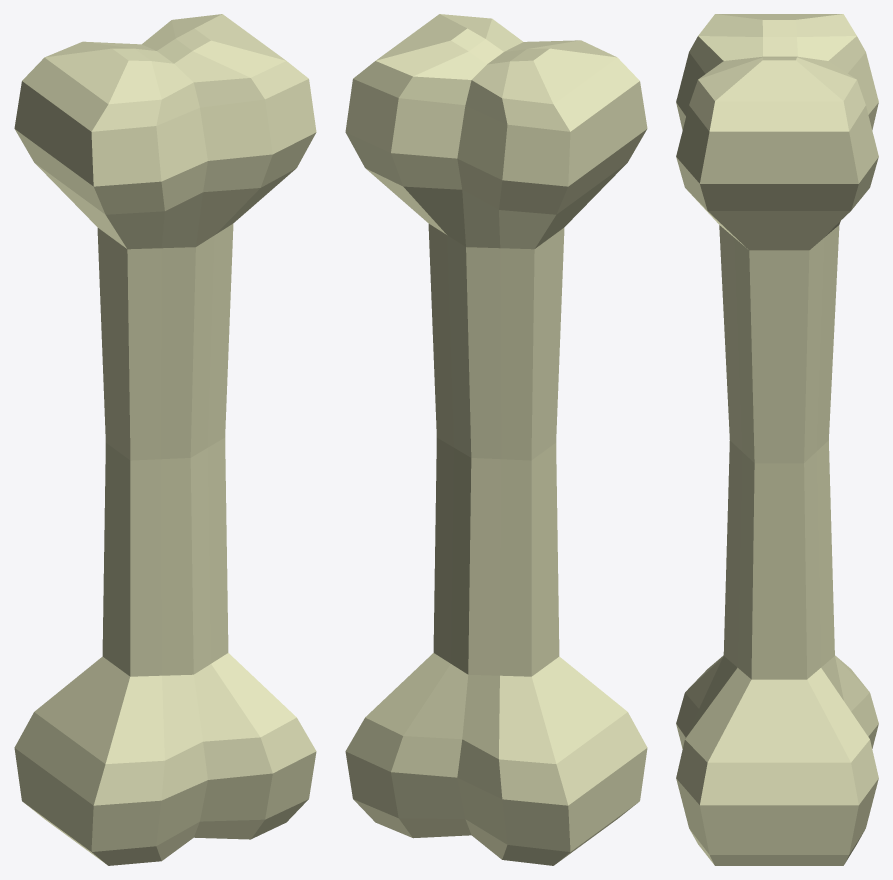
File: Bone.fbx
3 renders of one model, left to right at view 1: azimuth 30°, elevation 25°; view 2: azimuth 150°, elevation 25°; view 3: azimuth 270°, elevation 25°, orthographic.
Parts seen in each view (by area): view 1: Bone; view 2: Bone; view 3: Bone.
Part boxes in pixels (box(x1,y1,x2,y2)): Bone: box(14, 14, 316, 865); Bone: box(345, 14, 647, 865); Bone: box(676, 14, 878, 865).
Bounding box in the file's own units: 101 × 343 × 79.22.
